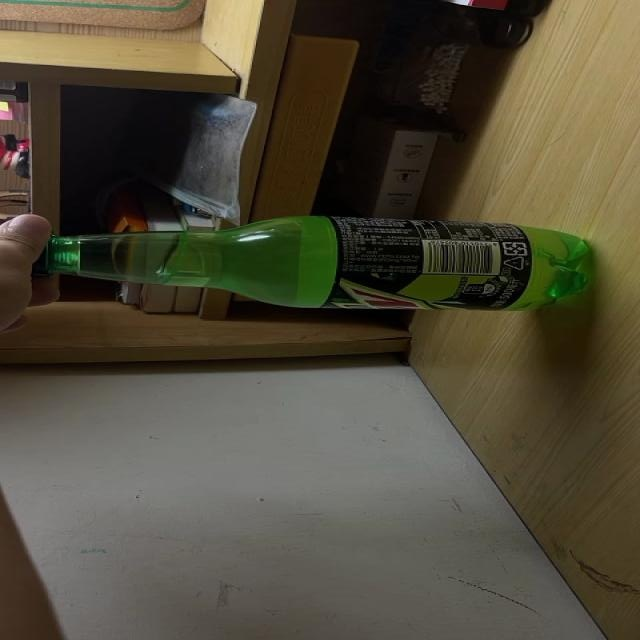Mountain-Dew: (0, 216, 595, 312)
